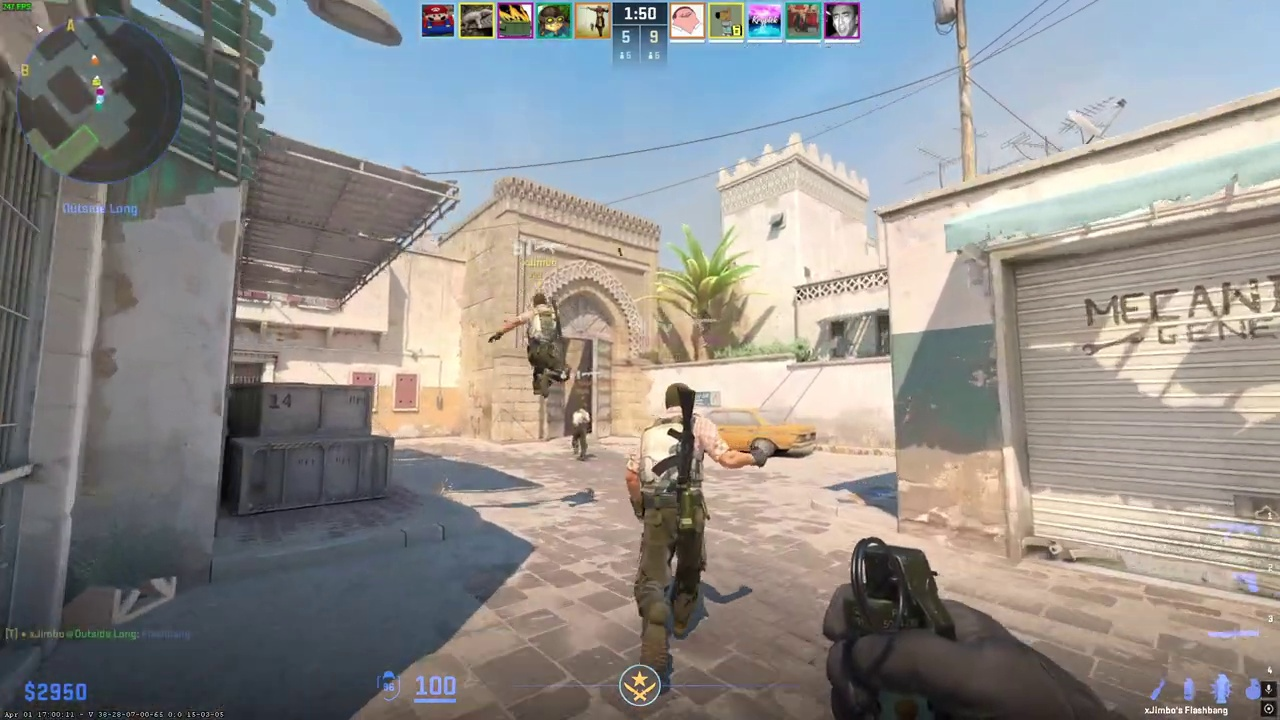Terrorist: (625, 383, 730, 681), (518, 294, 568, 398), (571, 403, 590, 461)
